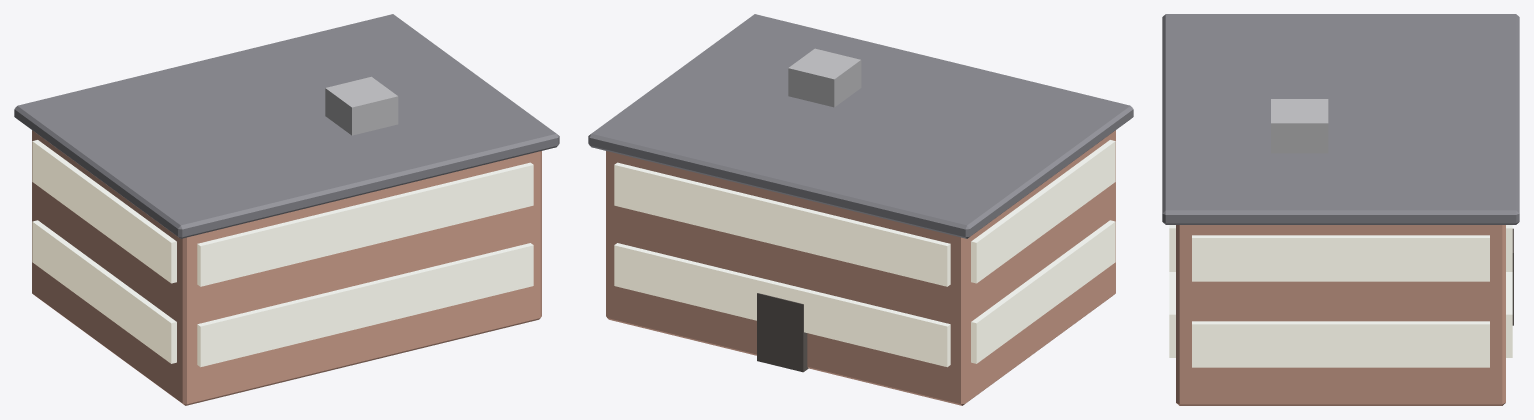
Rendered from bld_3_1.glb.
3 renders of one model, left to right at view 1: azimuth 30°, elevation 25°; view 2: azimuth 150°, elevation 25°; view 3: azimuth 270°, elevation 25°, orthographic. The views are drawn at different scales.
Visible parts, largest first — view 1: rf, w, bz2.001, bz2, bx2, bx2.001, ac; view 2: rf, w, bz1.001, bz1, bx2, bx2.001, door, ac; view 3: rf, w, bx1, bx1.001, ac, bz1, bz2, bz1.001, bz2.001.
Boxes of the visible parts, x1,y1,x2,y2 form: rf: (14, 14, 559, 238); w: (32, 130, 541, 405); bz2.001: (197, 162, 533, 286); bz2: (197, 243, 533, 367); bx2: (32, 220, 176, 363); bx2.001: (32, 140, 176, 283); ac: (325, 76, 398, 135); rf: (588, 14, 1133, 238); w: (606, 130, 1115, 405); bz1.001: (614, 162, 950, 286); bz1: (614, 243, 950, 367); bx2: (971, 220, 1115, 363); bx2.001: (971, 140, 1115, 283); door: (757, 293, 808, 372); ac: (788, 48, 861, 107); rf: (1162, 14, 1519, 224); w: (1176, 225, 1505, 405); bx1: (1192, 321, 1489, 367); bx1.001: (1192, 235, 1489, 281); ac: (1271, 99, 1328, 153); bz1: (1506, 272, 1512, 357); bz2: (1169, 272, 1175, 357); bz1.001: (1506, 225, 1512, 271); bz2.001: (1169, 225, 1175, 271).
Bounding box in the file's own units: 4.12 × 2.23 × 3.12.
